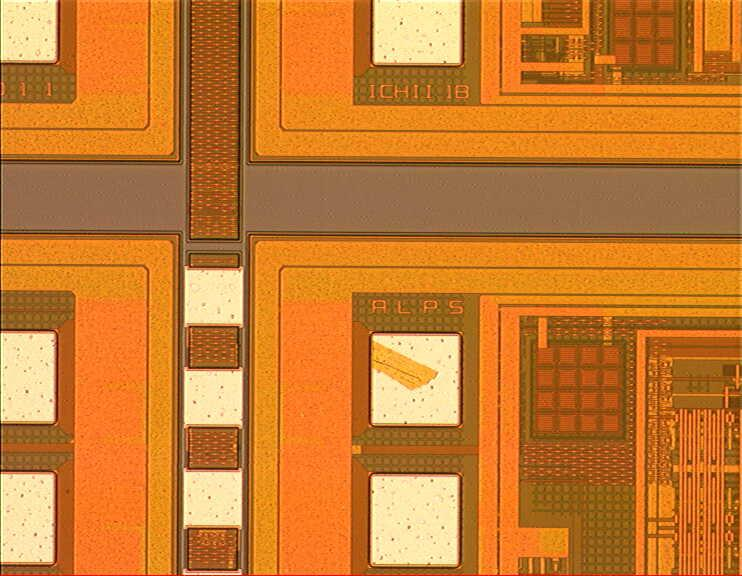BLOCK ETCH: (360, 330, 443, 400)
